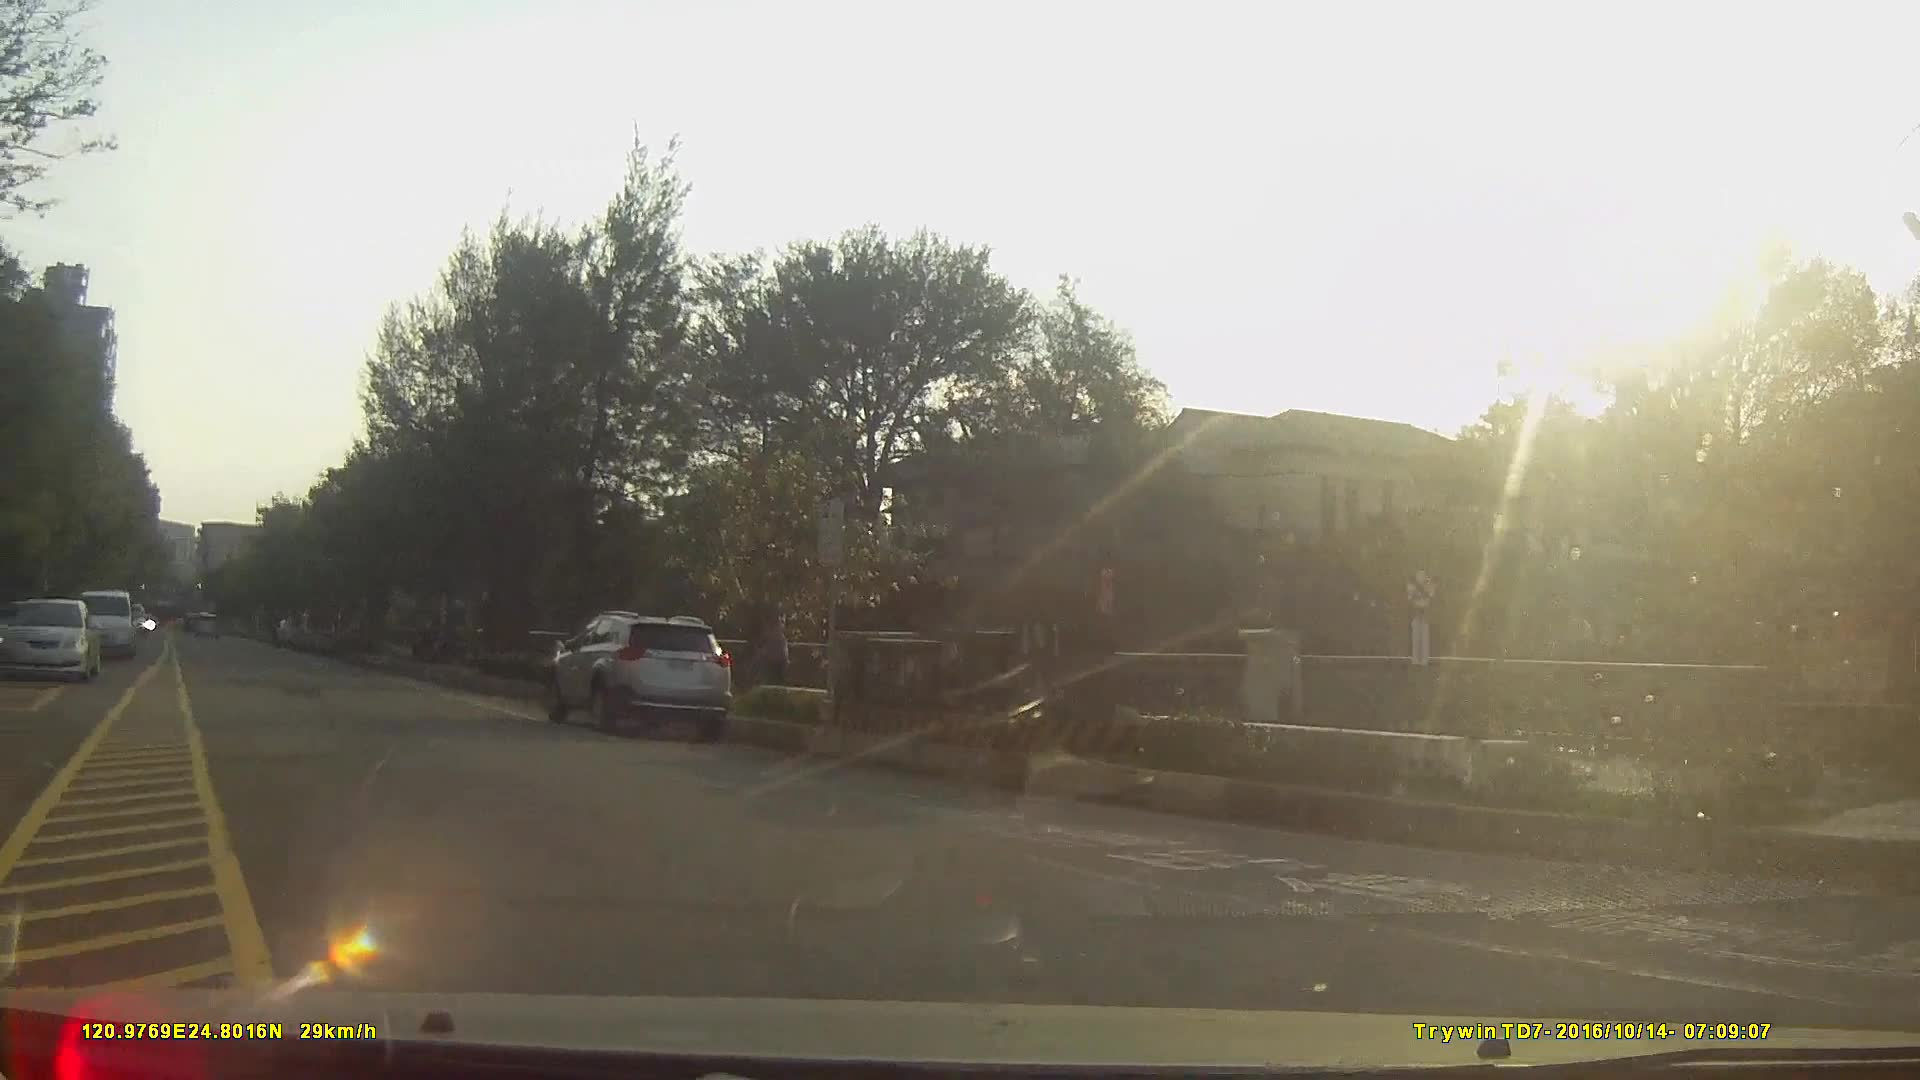vehicle: (543, 611, 735, 738), (4, 597, 96, 680), (82, 589, 136, 662), (287, 604, 342, 655)
